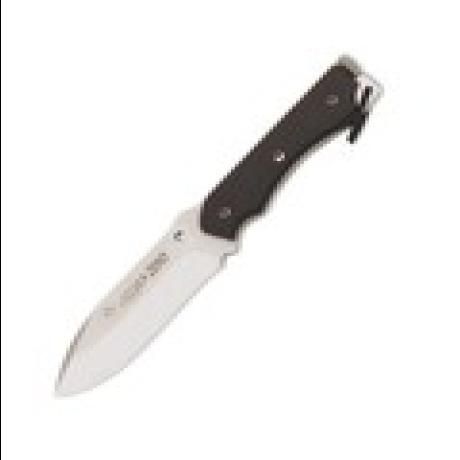weapon: (57, 50, 382, 398)
